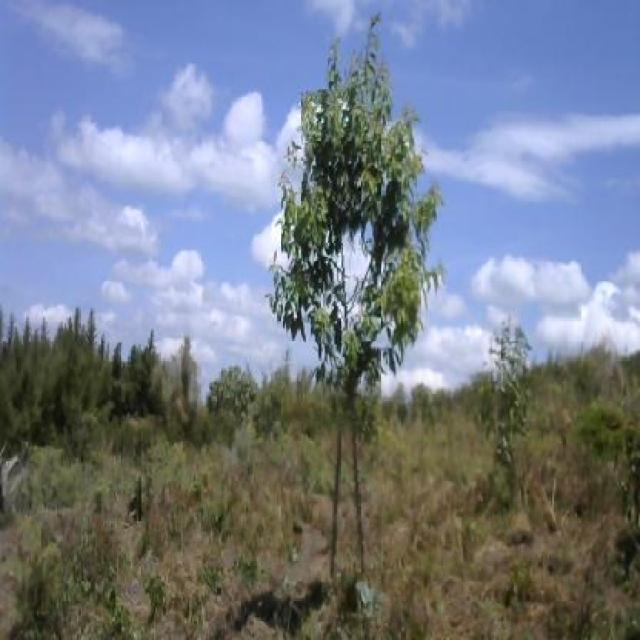tree trunk: (312, 88, 379, 572)
